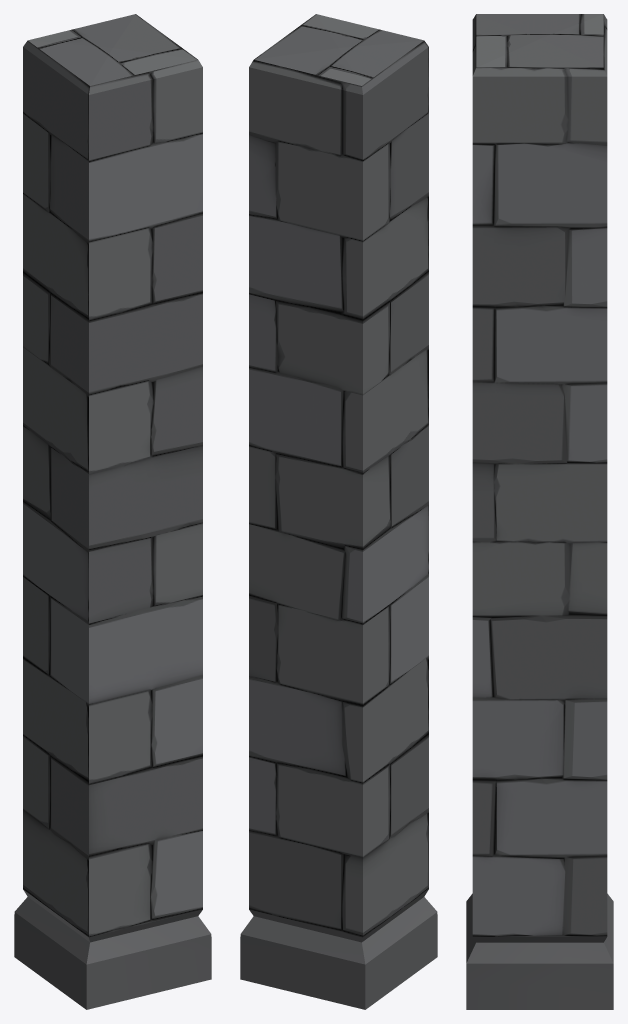
File: SM_Bld_Base_Pillar_01.fbx
The picture shows the model from 3 angles, left to right: view 1: azimuth 30°, elevation 25°; view 2: azimuth 150°, elevation 25°; view 3: azimuth 270°, elevation 25°; orthographic projection. The views are drawn at different scales.
Visible parts, largest first — view 1: SM_Bld_Base_Pillar_01; view 2: SM_Bld_Base_Pillar_01; view 3: SM_Bld_Base_Pillar_01.
Boxes of the visible parts, x1,y1,x2,y2 form: SM_Bld_Base_Pillar_01: (14, 14, 211, 1009); SM_Bld_Base_Pillar_01: (240, 14, 437, 1009); SM_Bld_Base_Pillar_01: (466, 14, 613, 1009).
Bounding box in the file's own units: 42.91 × 302 × 42.91.
